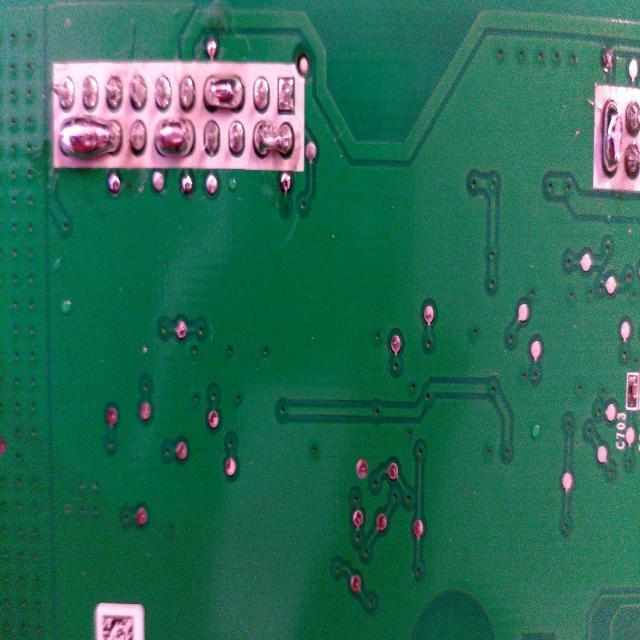Soldering shorted: (57, 114, 121, 166), (198, 72, 247, 109), (253, 120, 297, 156), (603, 102, 622, 184), (156, 122, 194, 154)
